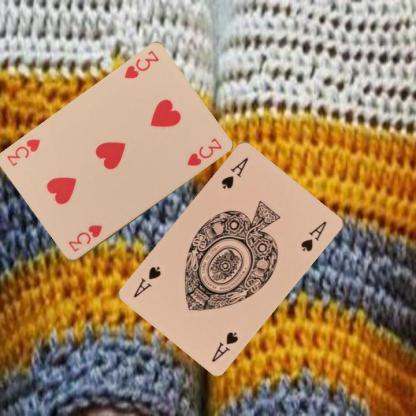3h: (65, 222, 104, 254), (121, 48, 160, 80)
As: (218, 154, 250, 190), (209, 329, 240, 363)
